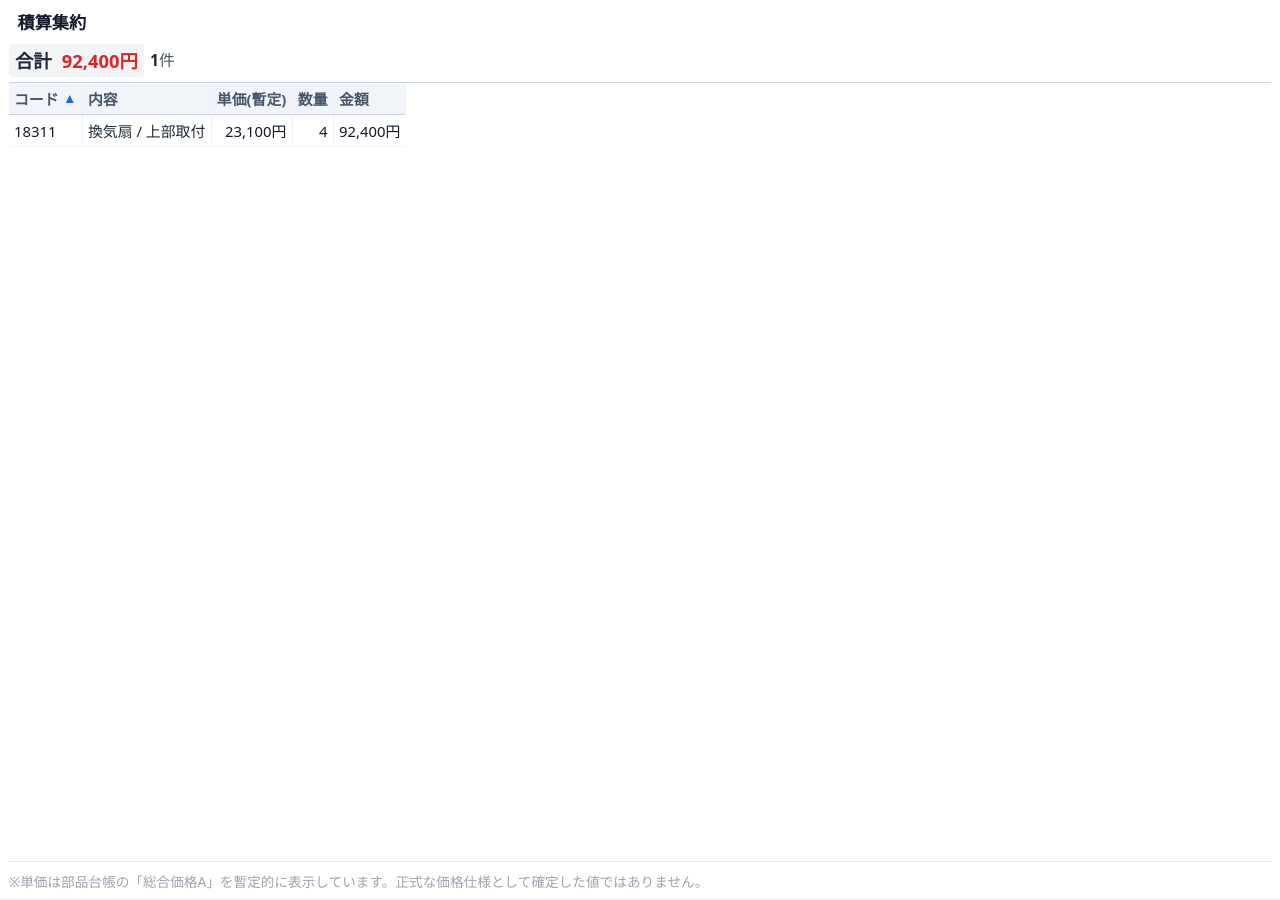
EstimateAggregation: 表セル境界の統一・ヘッダ左寄せ/数値セル右寄せ › keeps the sort indicator (▲/▼) visible next to the header label after the alignment change (9章)
The width and height of the screenshot is (1280, 900).
Expected: the button with aria-label "コードでソート" shows "▲", [14, 88, 76, 110]
Click the button with aria-label "金額でソート".
click(370, 99)  # box [339, 88, 400, 110]
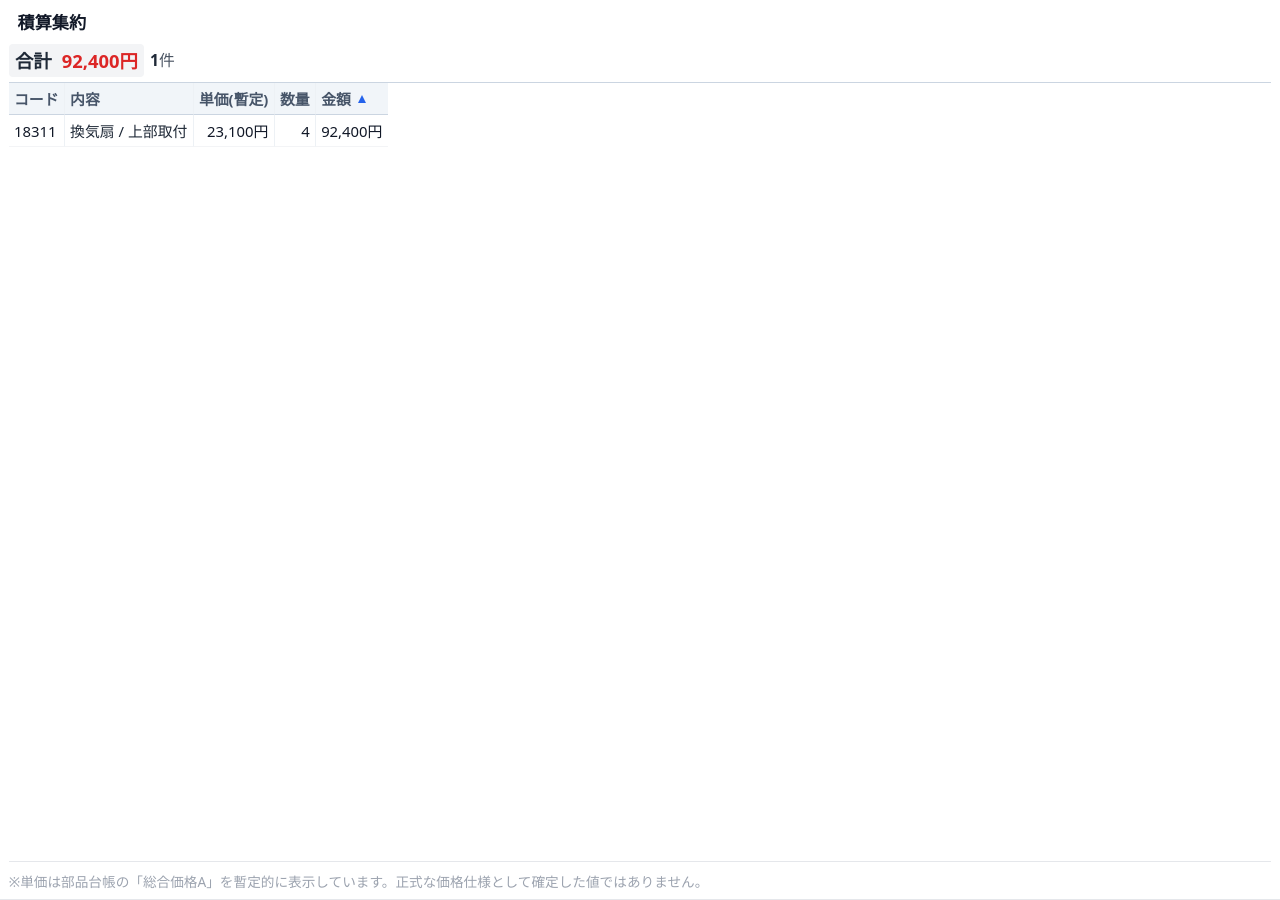
Now the button with aria-label "金額でソート" shows "▲", box [321, 88, 382, 110]
